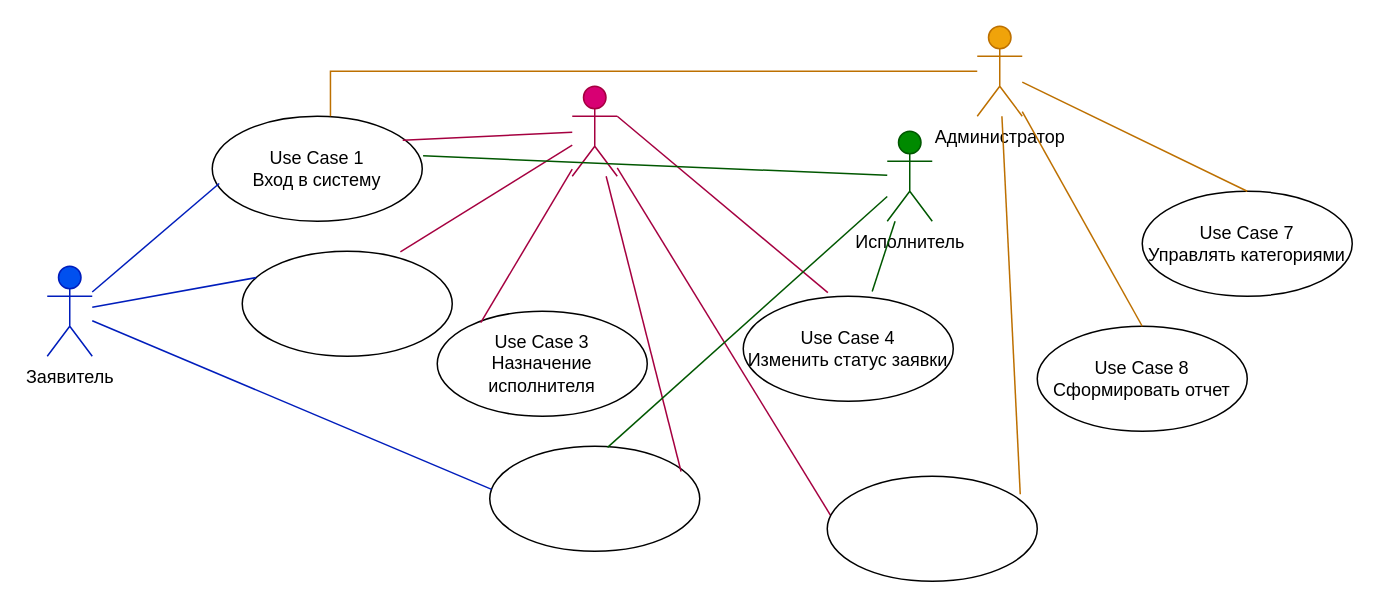
Some shapes in this 1379 by 608 pixel diagram are drawn without their labels. The centre of each missing label's shape, as x and y in pixels:
Use Case 2 Создание заявки: the point at 346,303
Use Case 5 Добавление комментария: the point at 594,498
Use Case 6 Найти и отфильтровать заявки: the point at 931,528
Оператор: the point at 594,130
